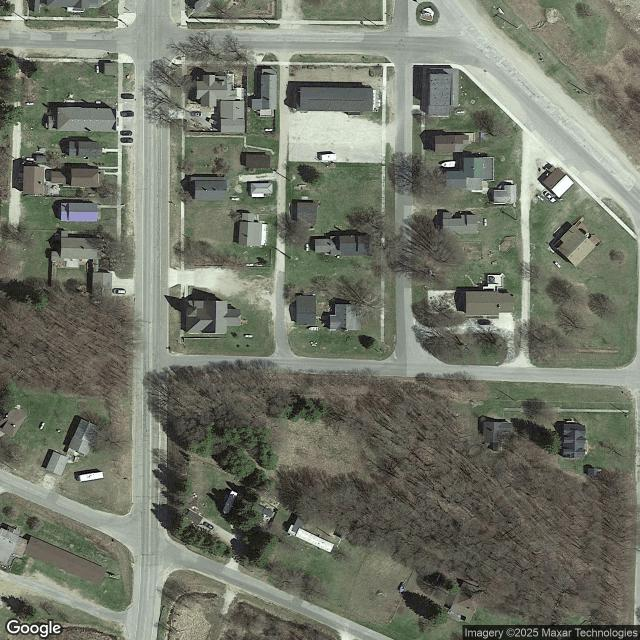Propane: (536, 194, 545, 202), (554, 262, 562, 269), (40, 422, 45, 430), (244, 334, 253, 338), (96, 65, 100, 74), (231, 197, 240, 201), (26, 102, 34, 106), (245, 263, 254, 266), (264, 128, 273, 131), (484, 218, 487, 227), (26, 158, 34, 161), (306, 244, 309, 252)
